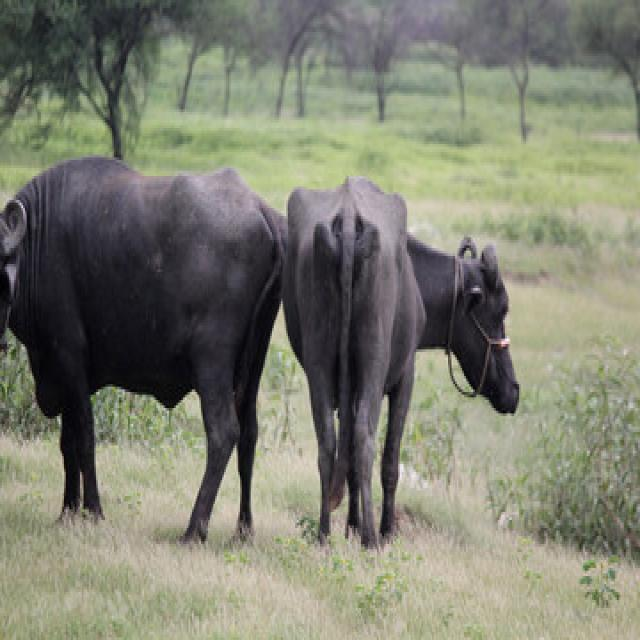Buffalo: (0, 160, 277, 525), (280, 175, 521, 551)
